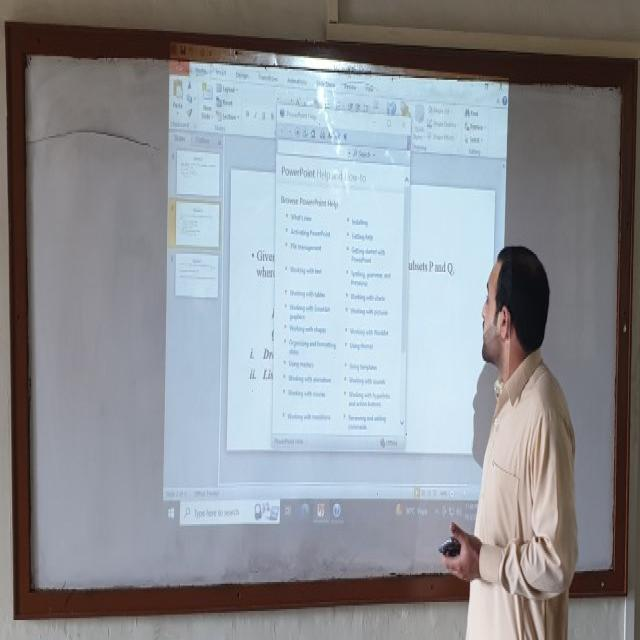Instructor: (467, 223, 572, 631)
Slide: (160, 42, 509, 539)
White-board: (16, 31, 631, 603)
